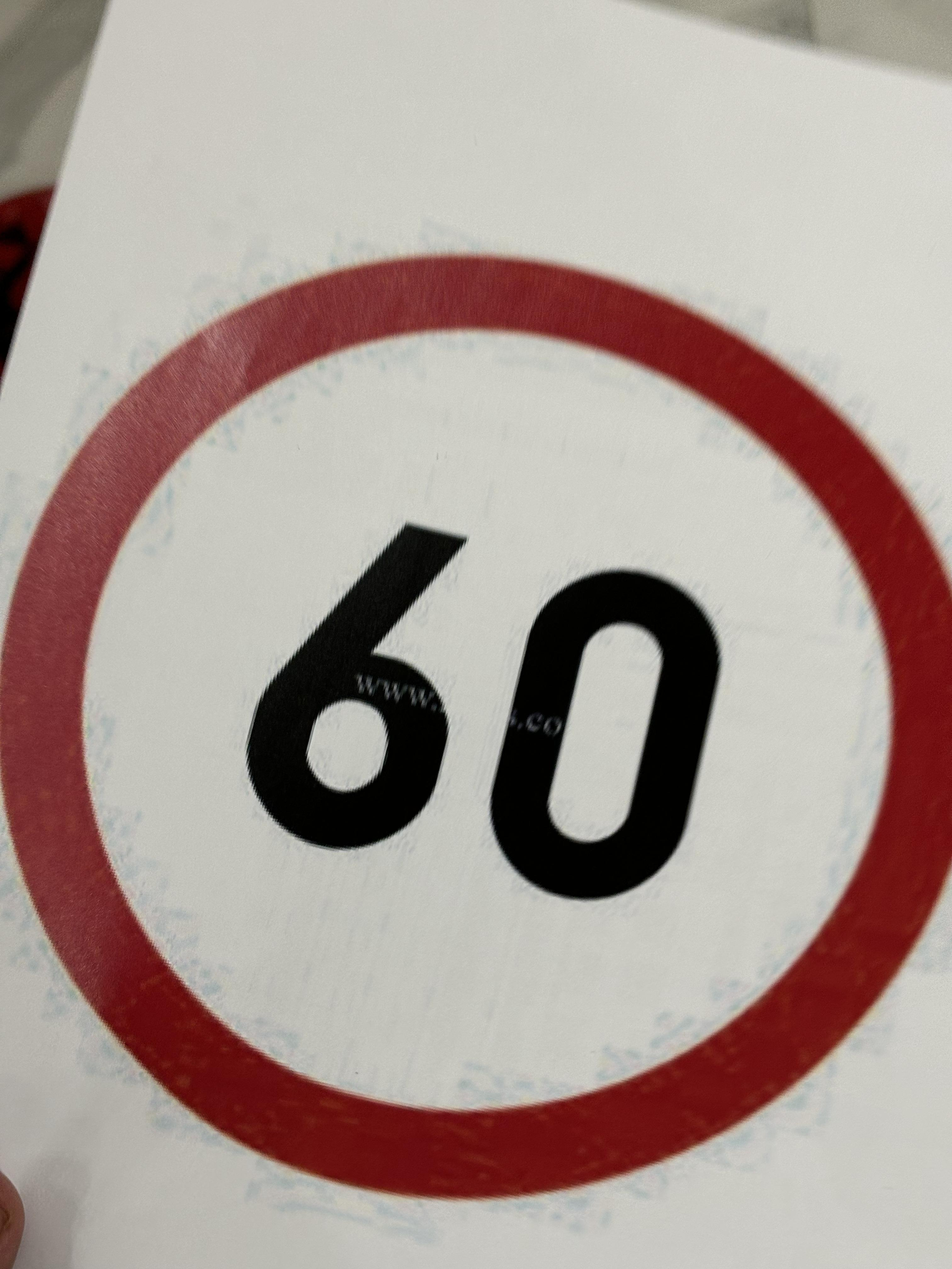60-Speed: (7, 256, 952, 1210)
